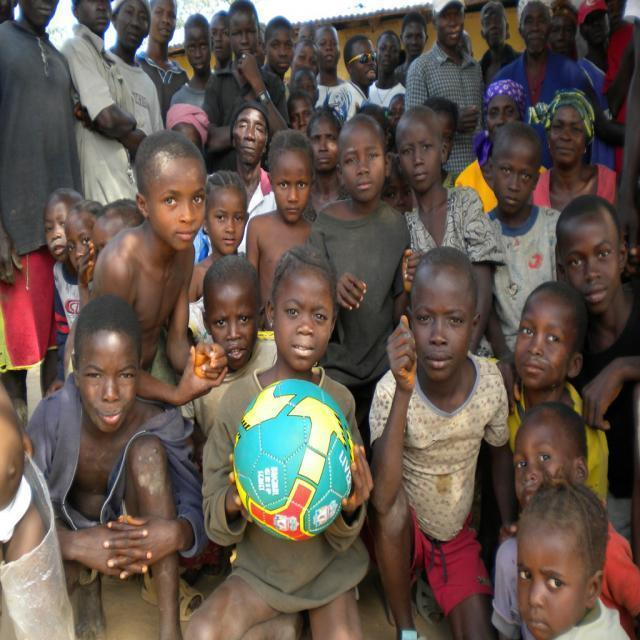ball: (233, 381, 357, 541)
